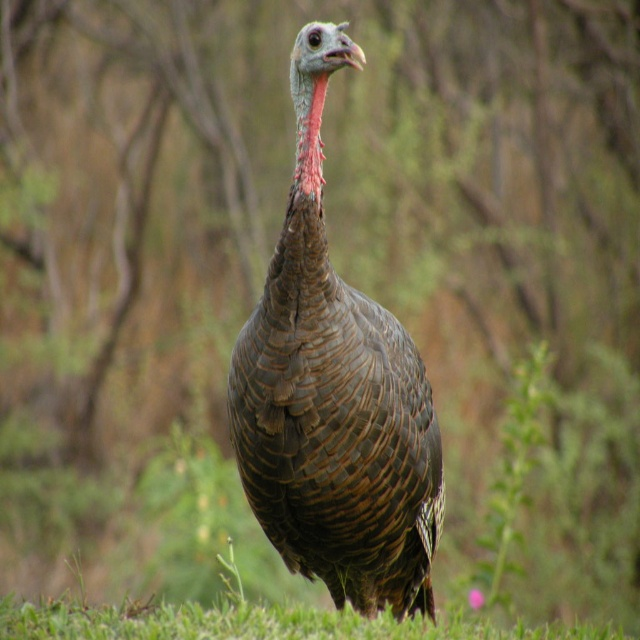Turkey: (227, 21, 445, 628)
